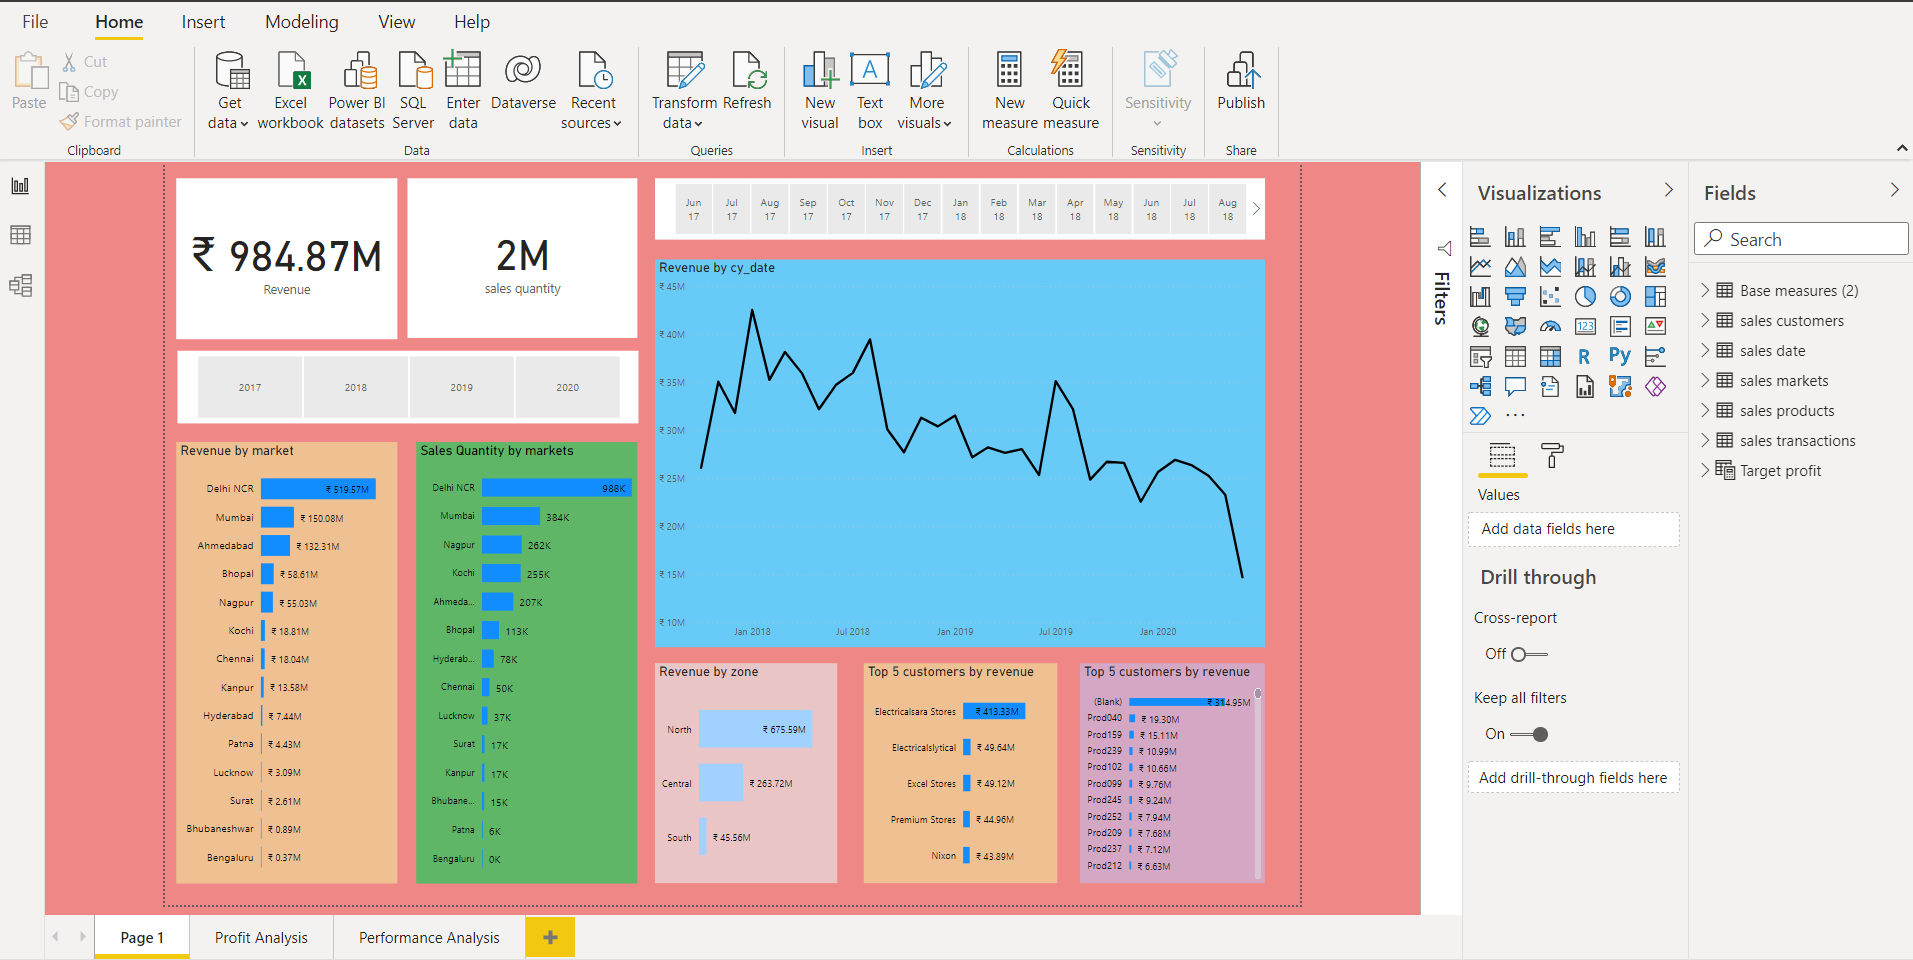

The page's visual inventory and layout, read from the dashboard file:
{"tool":"powerbi","page":{"name":"Page 1","canvas":[1450,950],"ordinal":0},"visuals":[{"type":"card","fields":{"Values":["Base measures (2).Revenue"]},"box":[14.4,20.8,282.6,206],"z":0},{"type":"card","fields":{"Values":["Base measures (2).sales quantity"]},"box":[309.7,20.8,293.8,204.4],"z":1000},{"type":"barChart","title":"Revenue by market","fields":{"Y":["Base measures (2).Revenue"],"Category":["sales markets.markets_name"]},"box":[14.4,357.6,282.6,563.6],"z":2000},{"type":"barChart","title":"Sales Quantity by markets","fields":{"Category":["sales markets.markets_name"],"Y":["Base measures (2).sales quantity"]},"box":[320.9,357.6,282.6,563.6],"z":3000},{"type":"barChart","title":"Revenue by zone","fields":{"Y":["Base measures (2).Revenue"],"Category":["sales markets.zone"]},"box":[625.9,640.3,233.1,281],"z":4000},{"type":"slicer","fields":{"Values":["sales date.year"]},"box":[16,241.1,589.2,92.6],"z":5000},{"type":"slicer","fields":{"Values":["sales date.cy_date"]},"box":[625.9,20.8,779.2,78.2],"z":6000},{"type":"barChart","title":"Top 5 customers by revenue","fields":{"Y":["Base measures (2).Revenue"],"Category":["sales customers.custmer_name"]},"box":[892.5,640.3,247.5,281],"z":7000},{"type":"lineChart","fields":{"Y":["Base measures (2).Revenue"],"Category":["sales date.cy_date"]},"box":[625.9,124.5,779.2,495],"z":8000},{"type":"barChart","title":"Top 5 customers by revenue","fields":{"Y":["Base measures (2).Revenue"],"Category":["sales products.product_code"]},"box":[1168.7,640.3,236.3,281],"z":9000}]}

Visuals, with their boxes on the page's 1450x950 design canvas (x1, y1, x2, y2). These are canvas units, not pixel positions in the 1913x960 screenshot, which may show the page scaled, cropped or inside an application window:
card - Base measures (2).Revenue: rect(14, 21, 297, 227)
card - Base measures (2).sales quantity: rect(310, 21, 604, 225)
"Revenue by market" barChart: rect(14, 358, 297, 921)
"Sales Quantity by markets" barChart: rect(321, 358, 604, 921)
"Revenue by zone" barChart: rect(626, 640, 859, 921)
slicer - sales date.year: rect(16, 241, 605, 334)
slicer - sales date.cy_date: rect(626, 21, 1405, 99)
"Top 5 customers by revenue" barChart: rect(892, 640, 1140, 921)
lineChart - Base measures (2).Revenue x sales date.cy_date: rect(626, 124, 1405, 620)
"Top 5 customers by revenue" barChart: rect(1169, 640, 1405, 921)
